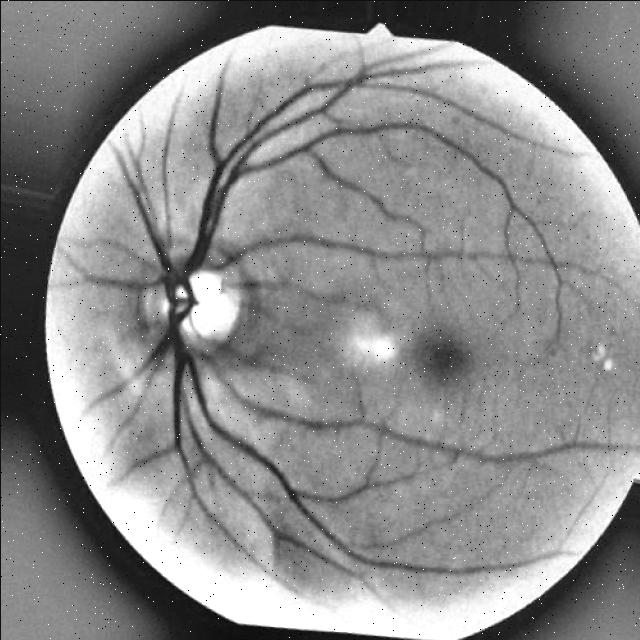Macula: (399, 315, 481, 398)
Nerves: (184, 76, 579, 322), (162, 291, 449, 573), (211, 364, 628, 462), (226, 229, 607, 279)
Optic Disk: (124, 233, 274, 371)
